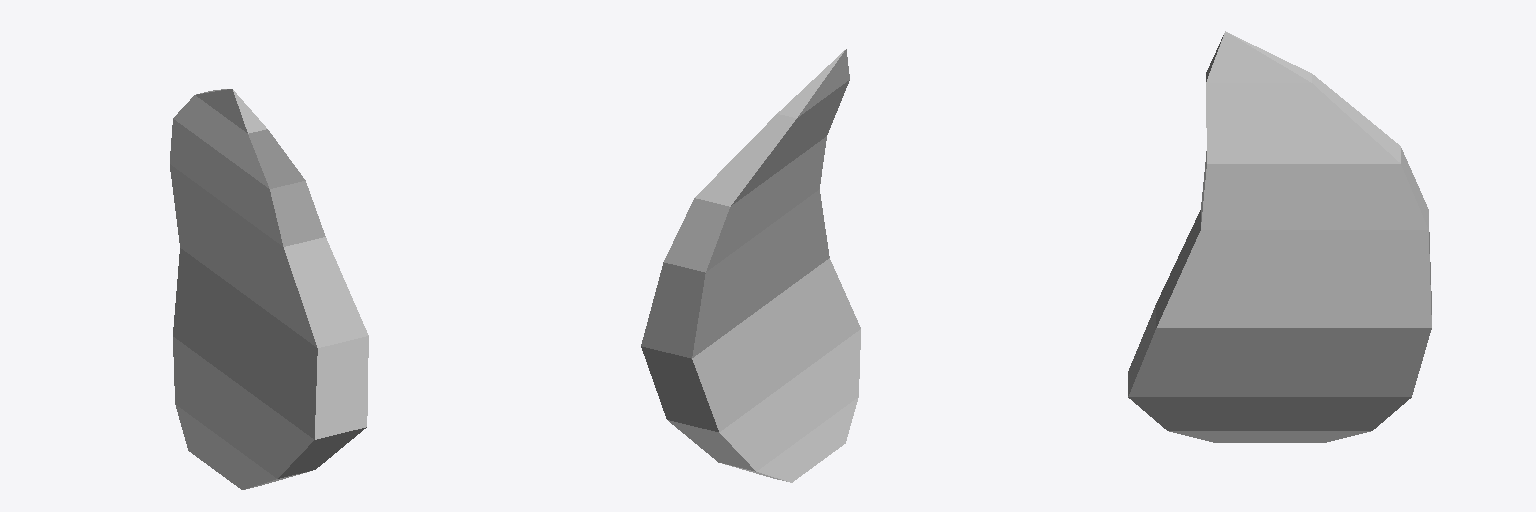
The model's file is alaizq.obj.
3 renders of one model, left to right at view 1: azimuth 30°, elevation 25°; view 2: azimuth 150°, elevation 25°; view 3: azimuth 270°, elevation 25°, orthographic.
Visible parts, largest first — view 1: WİNG.001; view 2: WİNG.001; view 3: WİNG.001.
Part boxes in pixels (bbox=[...]): WİNG.001: bbox=[170, 89, 368, 489]; WİNG.001: bbox=[641, 49, 860, 482]; WİNG.001: bbox=[1128, 31, 1431, 442].
Size of the model in its own units: 0.2145 by 0.8014 by 0.5522.